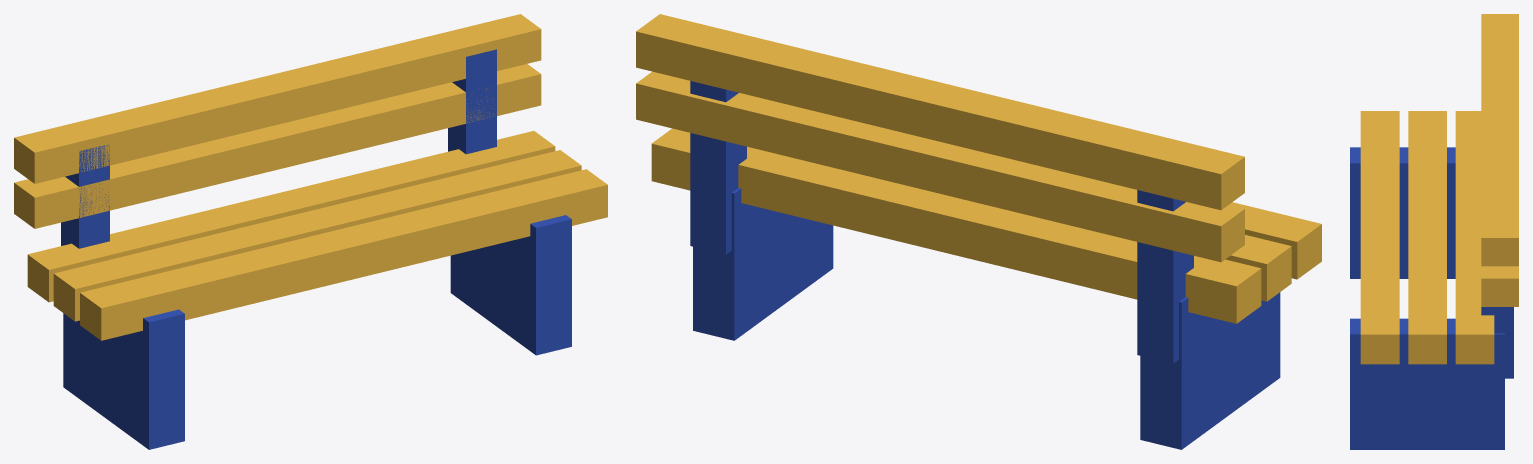
The model's file is bench.glb.
3 renders of one model, left to right at view 1: azimuth 30°, elevation 25°; view 2: azimuth 150°, elevation 25°; view 3: azimuth 270°, elevation 25°, orthographic. The views are drawn at different scales.
Visible parts, largest first — view 1: bench; view 2: bench; view 3: bench.
Boxes of the visible parts, box(x1,y1,x2,y2) form: bench: box(14, 14, 607, 449); bench: box(636, 14, 1321, 449); bench: box(1350, 14, 1518, 449).
Size of the model in its own units: 2.12 by 1.02 by 0.675.
